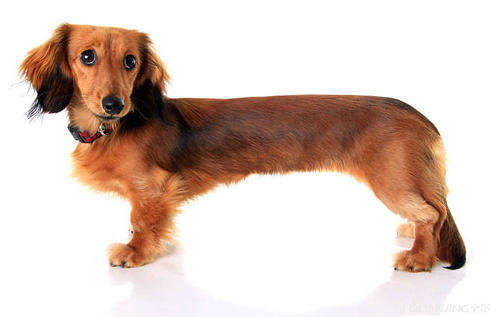dog: (22, 20, 179, 143)
